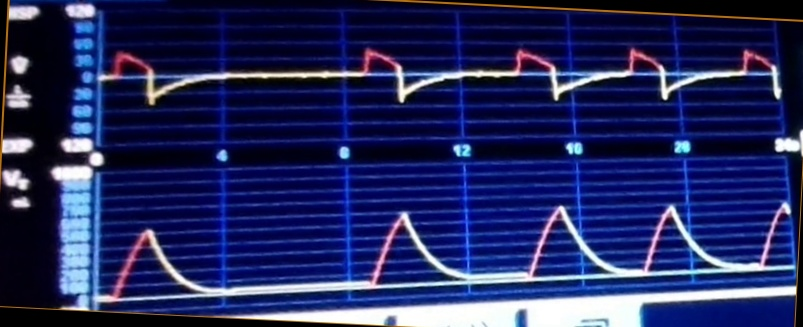Normal Flow: (104, 26, 780, 130)
Normal Volume: (106, 195, 792, 295)
